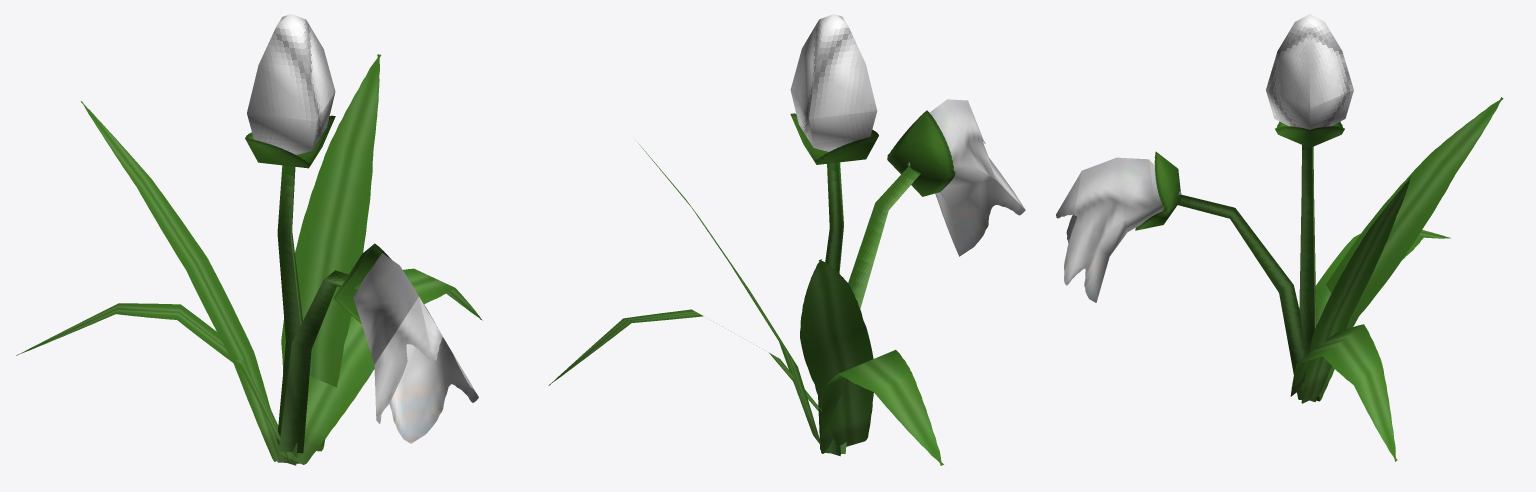
The model's file is tulip.glb.
3 views of the same model, side by side, from view 1: azimuth 30°, elevation 25°; view 2: azimuth 150°, elevation 25°; view 3: azimuth 270°, elevation 25° (orthographic). The views are drawn at different scales.
Visible parts, largest first — view 1: leaf1 (×2), desat_petals_wilt, leaf2 (×2), desat_petals_bloom, stem (×2), blub_bloom, blub_wilt; view 2: leaf2 (×2), desat_petals_bloom, desat_petals_wilt, stem (×2), blub_wilt, leaf1 (×2), blub_bloom; view 3: leaf1 (×2), desat_petals_wilt, leaf2 (×2), desat_petals_bloom, stem (×2), blub_wilt, blub_bloom.
Boxes of the visible parts, left/top/right/bottom form: leaf1 (×2): left=278, top=54, right=482, bottom=464; desat_petals_wilt: left=353, top=253, right=478, bottom=443; leaf2 (×2): left=16, top=101, right=290, bottom=461; desat_petals_bloom: left=247, top=14, right=335, bottom=154; stem (×2): left=277, top=165, right=361, bottom=465; blub_bloom: left=245, top=115, right=335, bottom=168; blub_wilt: left=334, top=243, right=391, bottom=323; leaf2 (×2): left=800, top=259, right=943, bottom=465; desat_petals_bloom: left=790, top=14, right=877, bottom=151; desat_petals_wilt: left=907, top=99, right=1025, bottom=256; stem (×2): left=818, top=162, right=920, bottom=456; blub_wilt: left=887, top=110, right=955, bottom=196; leaf1 (×2): left=548, top=143, right=822, bottom=445; blub_bloom: left=790, top=113, right=878, bottom=164; leaf1 (×2): left=1290, top=178, right=1410, bottom=461; desat_petals_wilt: left=1056, top=157, right=1181, bottom=302; leaf2 (×2): left=1315, top=97, right=1503, bottom=401; desat_petals_bloom: left=1266, top=14, right=1353, bottom=129; stem (×2): left=1177, top=145, right=1319, bottom=402; blub_wilt: left=1135, top=151, right=1180, bottom=230; blub_bloom: left=1275, top=121, right=1344, bottom=147.
Size of the model in its own units: 1.14 by 1.04 by 1.13.
Materials: 3 (3 with a texture image).
